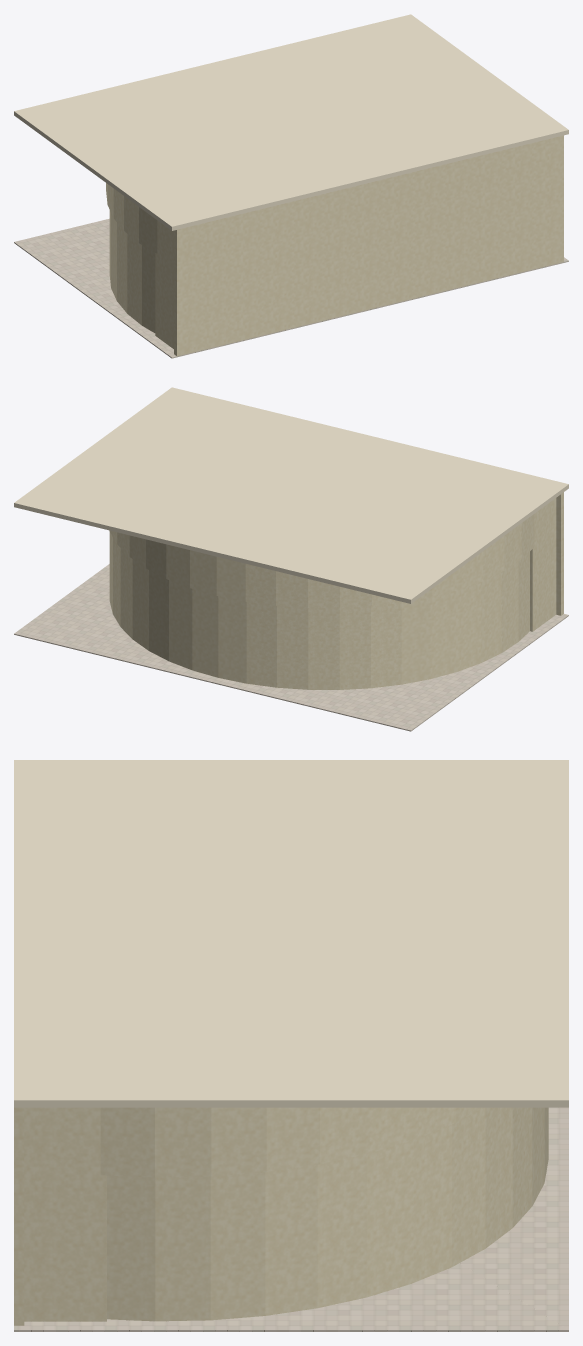
Rendered from hemiciclo.glb.
3 views of the same model, one above another, from view 1: azimuth 30°, elevation 25°; view 2: azimuth 150°, elevation 25°; view 3: azimuth 270°, elevation 25° (orthographic). The views are drawn at different scales.
Parts seen in each view (by area): view 1: Techo.001, Muros, Suelo; view 2: Techo.001, Muros, Suelo; view 3: Techo.001, Muros, Suelo.
Part boxes in pixels (box(x1,y1,x2,y2)): Techo.001: box(14, 14, 568, 230); Muros: box(106, 135, 563, 356); Suelo: box(14, 218, 568, 358); Techo.001: box(14, 387, 568, 603); Muros: box(109, 492, 563, 689); Suelo: box(14, 564, 568, 731); Techo.001: box(14, 760, 568, 1107); Muros: box(14, 1107, 548, 1325); Suelo: box(14, 1107, 568, 1331).
Bounding box in the file's own units: 39.4 × 12.5 × 27.15.
Materials: 8 (6 with a texture image).
